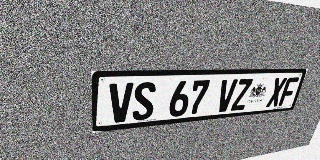6: (168, 81, 192, 117)
7: (187, 80, 210, 115)
F: (278, 77, 299, 106)
S: (132, 82, 156, 121)
V: (109, 82, 133, 123), (215, 79, 238, 112)
X: (266, 77, 287, 107)
Z: (230, 79, 253, 111)
